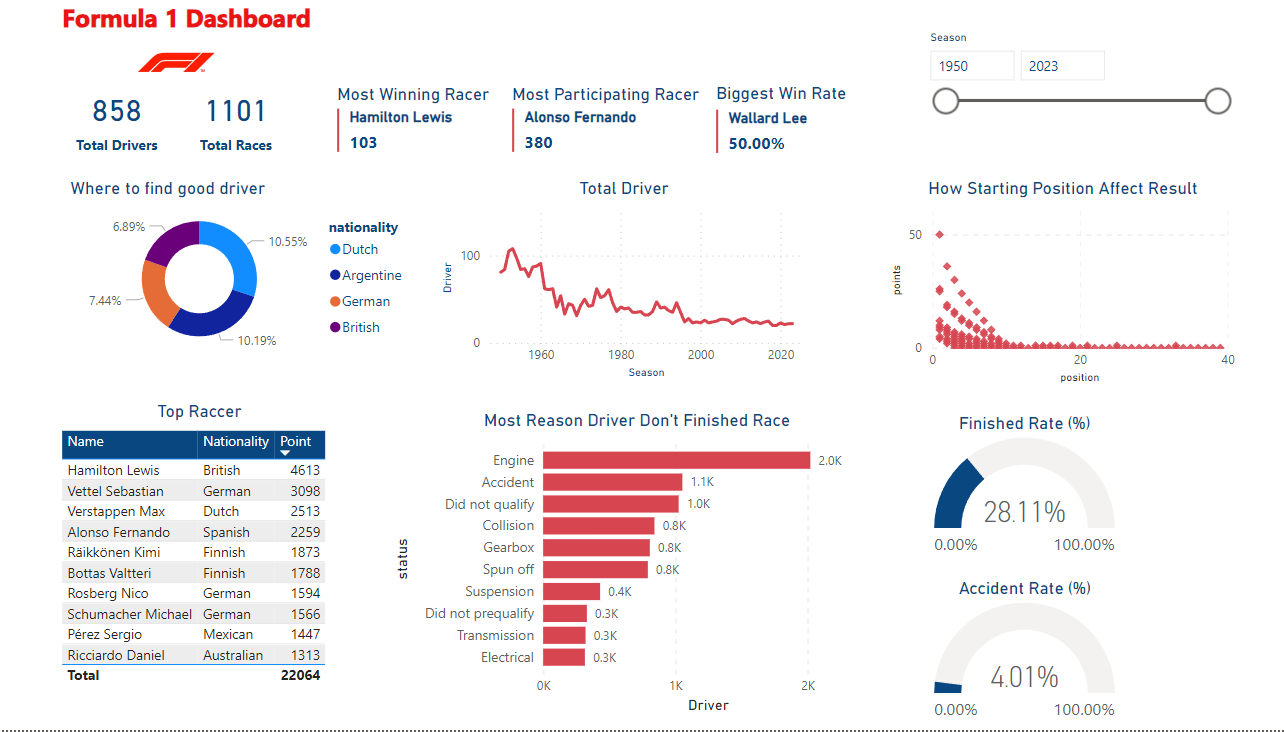

The dashboard page shown, as its layout file describes it:
{"tool":"powerbi","page":{"name":"Page 1","canvas":[1280,720],"ordinal":0},"visuals":[{"type":"cardVisual","fields":{"Data":["race_results.driver_id","race_results.race_id"]},"box":[59.4,83.7,235.6,88.6],"z":0},{"type":"multiRowCard","title":"Most Winning Racer","fields":{"Values":["DriverSumarize.driver_name_win","DriverSumarize.max_win"]},"box":[328,91.5,170.3,80.8],"z":1000},{"type":"multiRowCard","title":"Most Participating Racer","fields":{"Values":["DriverSumarize.driver_name_total_race","DriverSumarize.max_total_race"]},"box":[498.4,91.5,198.6,81.8],"z":2000},{"type":"multiRowCard","title":"Biggest Win Rate","fields":{"Values":["DriverSumarize.driver_name_win_race","DriverSumarize.max_win_race"]},"box":[696.9,90.5,170.3,81.8],"z":3000},{"type":"slicer","fields":{"Values":["race_results.race_year"]},"box":[897.5,35,314.4,111.9],"z":4000},{"type":"donutChart","title":"Where to find good driver","fields":{"Y":["DriverSumarize.win_rate"],"Category":["race_results.driver_nationality"]},"box":[68.1,183,345.6,177.2],"z":5000},{"type":"lineChart","title":"Total Driver","fields":{"Category":["race_results.race_year"],"Y":["race_results.driver_id"]},"box":[430.2,183,364,199.5],"z":6000},{"type":"tableEx","title":"Top Raccer","fields":{"Values":["race_results.driver_name","race_results.driver_nationality","DriverSumarize.total_point"]},"box":[59.4,400.1,279.4,299.8],"z":7000},{"type":"scatterChart","title":"How Starting Position Affect Result","fields":{"X":["race_results.position"],"Y":["race_results.points"]},"box":[867.3,183,344.6,204.4],"z":8000},{"type":"textbox","box":[44.4,4.6,283.6,59.8],"z":9000},{"type":"image","box":[133.1,8.7,87.7,119.6],"z":10000},{"type":"barChart","title":"Most Reason Driver Don''t Finished Race","fields":{"Category":["race_results.status"],"Y":["race_results.driver_id"]},"box":[382.5,408.8,484.7,299.8],"z":11000},{"type":"gauge","title":"Finished Rate (%)","fields":{"Y":["DriverSumarize.total_finshed"]},"box":[867.3,411.7,269.6,148],"z":12000},{"type":"gauge","title":"Accident Rate (%)","fields":{"Y":["DriverSumarize.total_accident"]},"box":[867.3,572.3,269.6,148],"z":13000}]}

Visuals, with their boxes in screenshot pixels (x1, y1, x2, y2), scaled from the page's 1280x720 canvas onto the 1284x732 screenshot:
cardVisual - race_results.driver_id x race_results.race_id: [60,85,296,175]
"Most Winning Racer" multiRowCard: [329,93,500,175]
"Most Participating Racer" multiRowCard: [500,93,699,176]
"Biggest Win Rate" multiRowCard: [699,92,870,175]
slicer - race_results.race_year: [900,36,1216,149]
"Where to find good driver" donutChart: [68,186,415,366]
"Total Driver" lineChart: [432,186,797,389]
"Top Raccer" tableEx: [60,407,340,712]
"How Starting Position Affect Result" scatterChart: [870,186,1216,394]
textbox: [45,5,329,65]
image: [134,9,221,130]
"Most Reason Driver Don''t Finished Race" barChart: [384,416,870,720]
"Finished Rate (%)" gauge: [870,419,1140,569]
"Accident Rate (%)" gauge: [870,582,1140,731]
